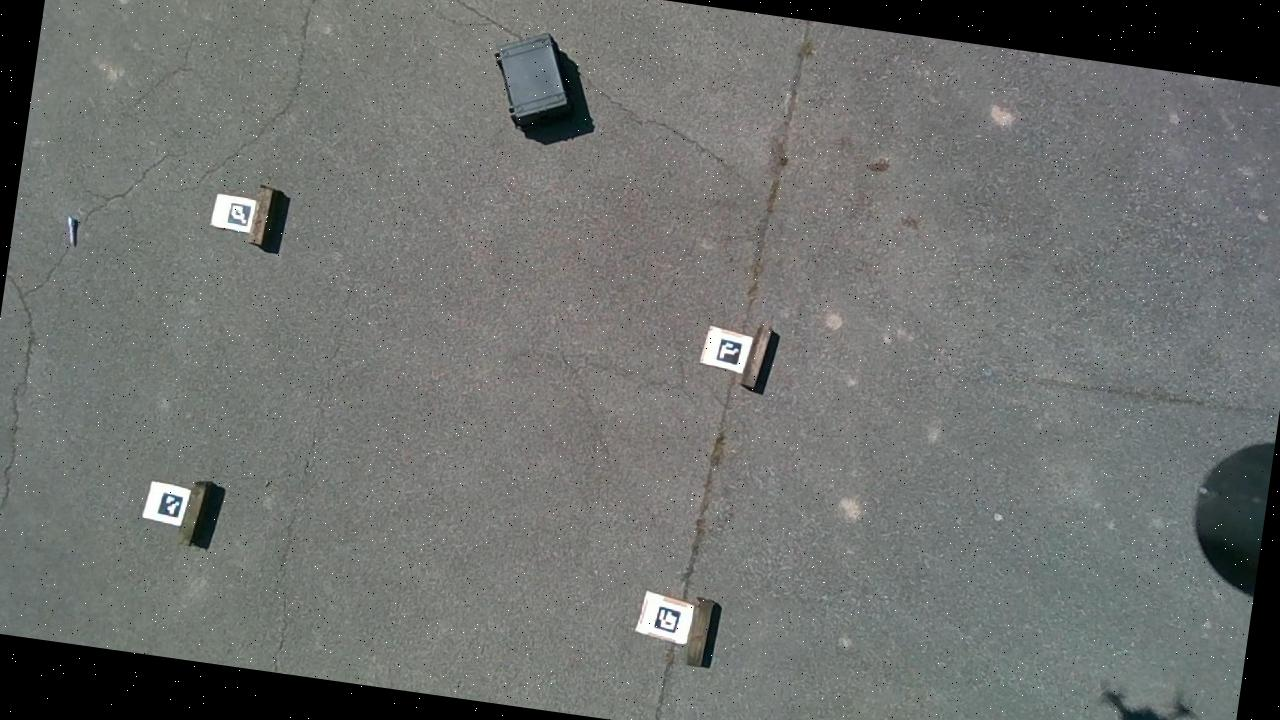probes: (64, 217, 78, 246)
rako: (484, 28, 581, 135)
